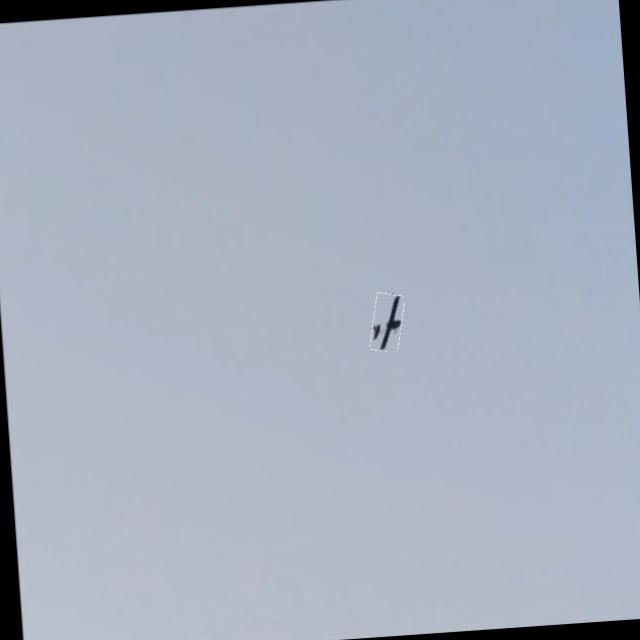UAV: (348, 282, 408, 359)
